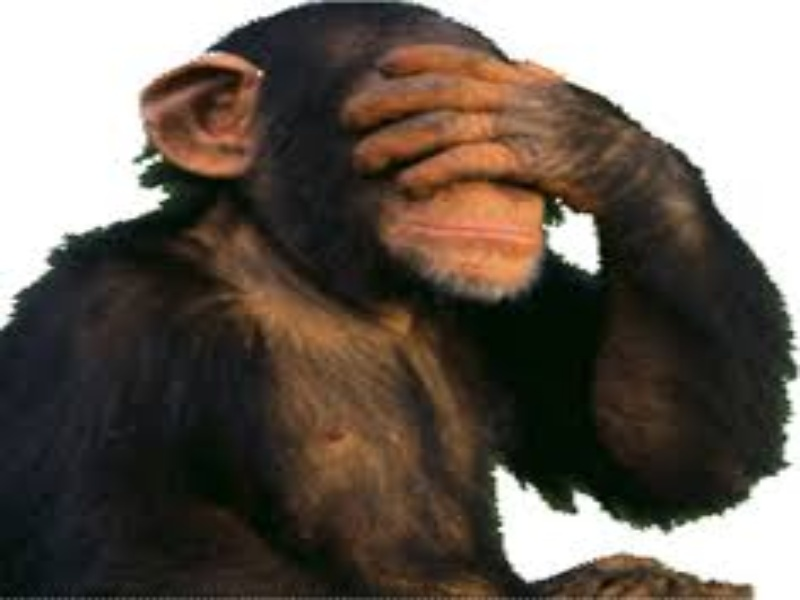monkey: (14, 3, 793, 592)
